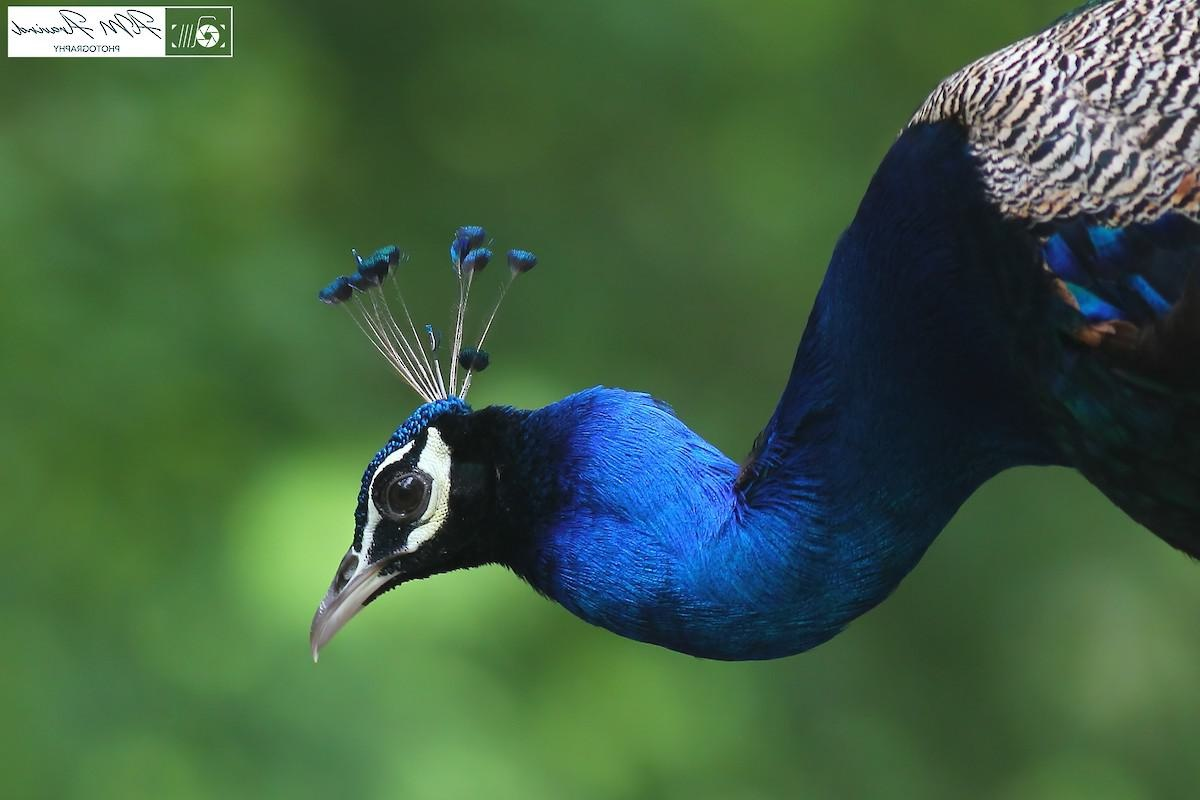peacock: (247, 26, 1200, 721)
